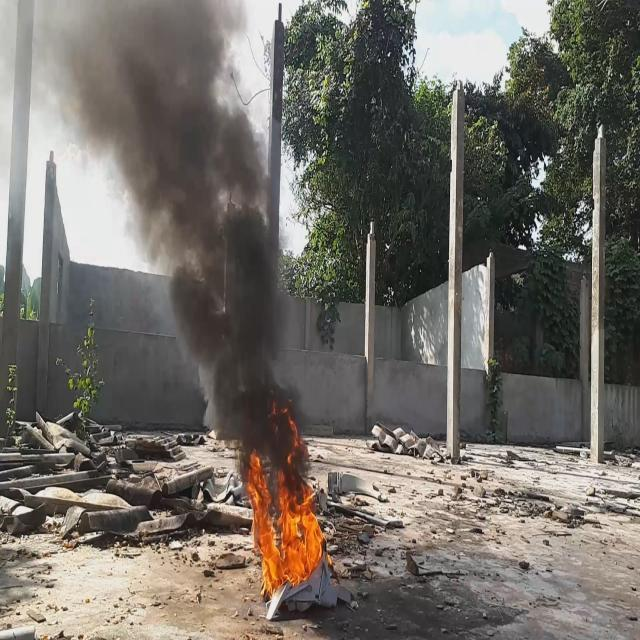Fire: (242, 394, 327, 596)
Smoke: (0, 0, 309, 502)
